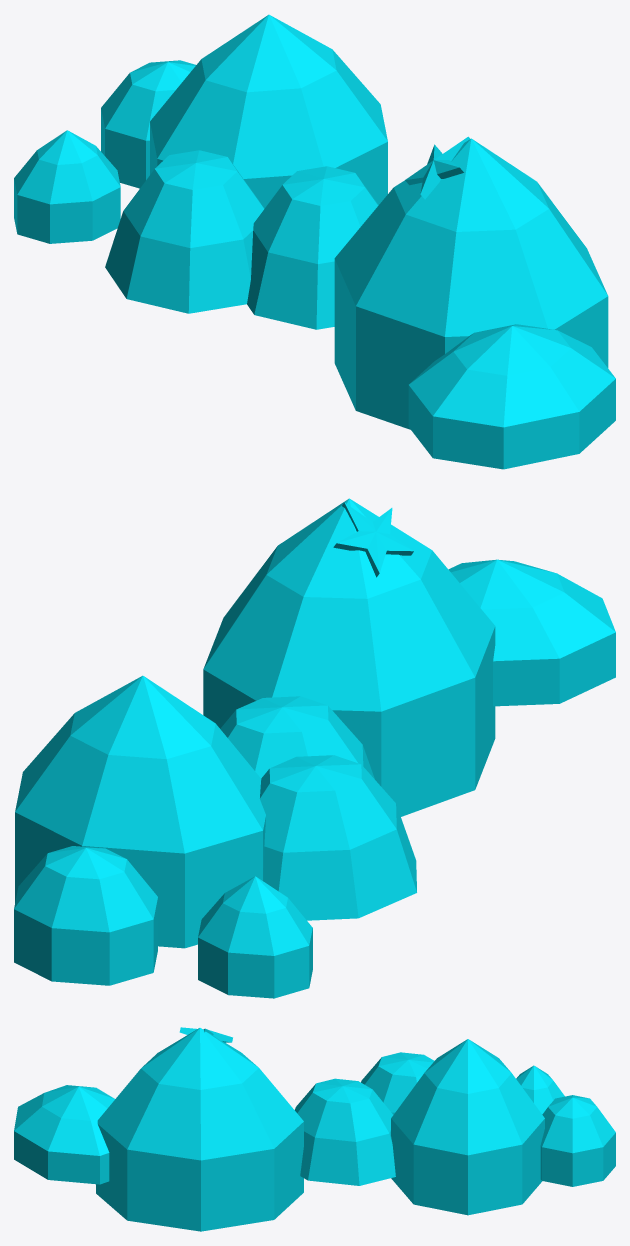
The model's file is Asset_BlockBeach_02.fbx.
3 views of the same model, one above another, from view 1: azimuth 30°, elevation 25°; view 2: azimuth 150°, elevation 25°; view 3: azimuth 270°, elevation 25° (orthographic). The views are drawn at different scales.
Parts seen in each view (by area): view 1: PolySurface_Rock_014, PolySurface_Rock_010, PolySurface_Rock_015, PolySurface_Rock_013, PolySurface_Rock_09, PolySurface_Rock_012, PolySurface_Rock_011, PolySurface_Star_04; view 2: PolySurface_Rock_014, PolySurface_Rock_010, PolySurface_Rock_013, PolySurface_Rock_011, PolySurface_Rock_015, PolySurface_Rock_012, PolySurface_Rock_09, PolySurface_Star_04; view 3: PolySurface_Rock_014, PolySurface_Rock_010, PolySurface_Rock_09, PolySurface_Rock_015, PolySurface_Rock_011, PolySurface_Rock_013, PolySurface_Rock_012.
Part boxes in pixels (x1=…): PolySurface_Rock_014: x1=334, y1=138, x2=608, y2=429; PolySurface_Rock_010: x1=150, y1=14, x2=387, y2=208; PolySurface_Rock_015: x1=408, y1=324, x2=615, y2=469; PolySurface_Rock_013: x1=105, y1=150, x2=264, y2=313; PolySurface_Rock_09: x1=247, y1=166, x2=378, y2=329; PolySurface_Rock_012: x1=14, y1=130, x2=120, y2=243; PolySurface_Rock_011: x1=101, y1=60, x2=195, y2=188; PolySurface_Star_04: x1=405, y1=136, x2=469, y2=199; PolySurface_Rock_014: x1=203, y1=498, x2=495, y2=816; PolySurface_Rock_010: x1=15, y1=675, x2=265, y2=948; PolySurface_Rock_013: x1=260, y1=755, x2=416, y2=920; PolySurface_Rock_011: x1=14, y1=846, x2=157, y2=985; PolySurface_Rock_015: x1=448, y1=559, x2=615, y2=706; PolySurface_Rock_012: x1=198, y1=876, x2=312, y2=998; PolySurface_Rock_09: x1=220, y1=696, x2=374, y2=779; PolySurface_Star_04: x1=333, y1=502, x2=413, y2=577; PolySurface_Rock_014: x1=96, y1=1028, x2=303, y2=1231; PolySurface_Rock_010: x1=391, y1=1039, x2=544, y2=1215; PolySurface_Rock_09: x1=295, y1=1078, x2=395, y2=1185; PolySurface_Rock_015: x1=14, y1=1085, x2=114, y2=1184; PolySurface_Rock_011: x1=540, y1=1095, x2=615, y2=1186; PolySurface_Rock_013: x1=361, y1=1052, x2=434, y2=1114; PolySurface_Rock_012: x1=516, y1=1065, x2=564, y2=1114.
Bounding box in the file's own units: 67.33 × 48.24 × 159.
